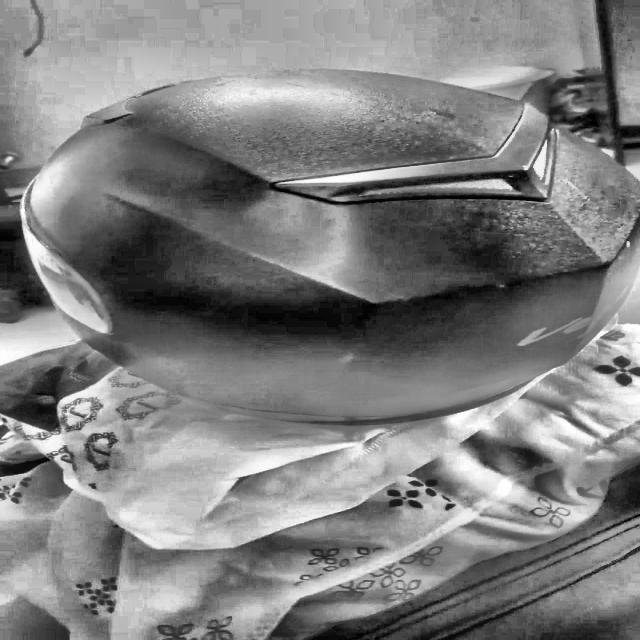Helmet: (4, 67, 640, 426)
